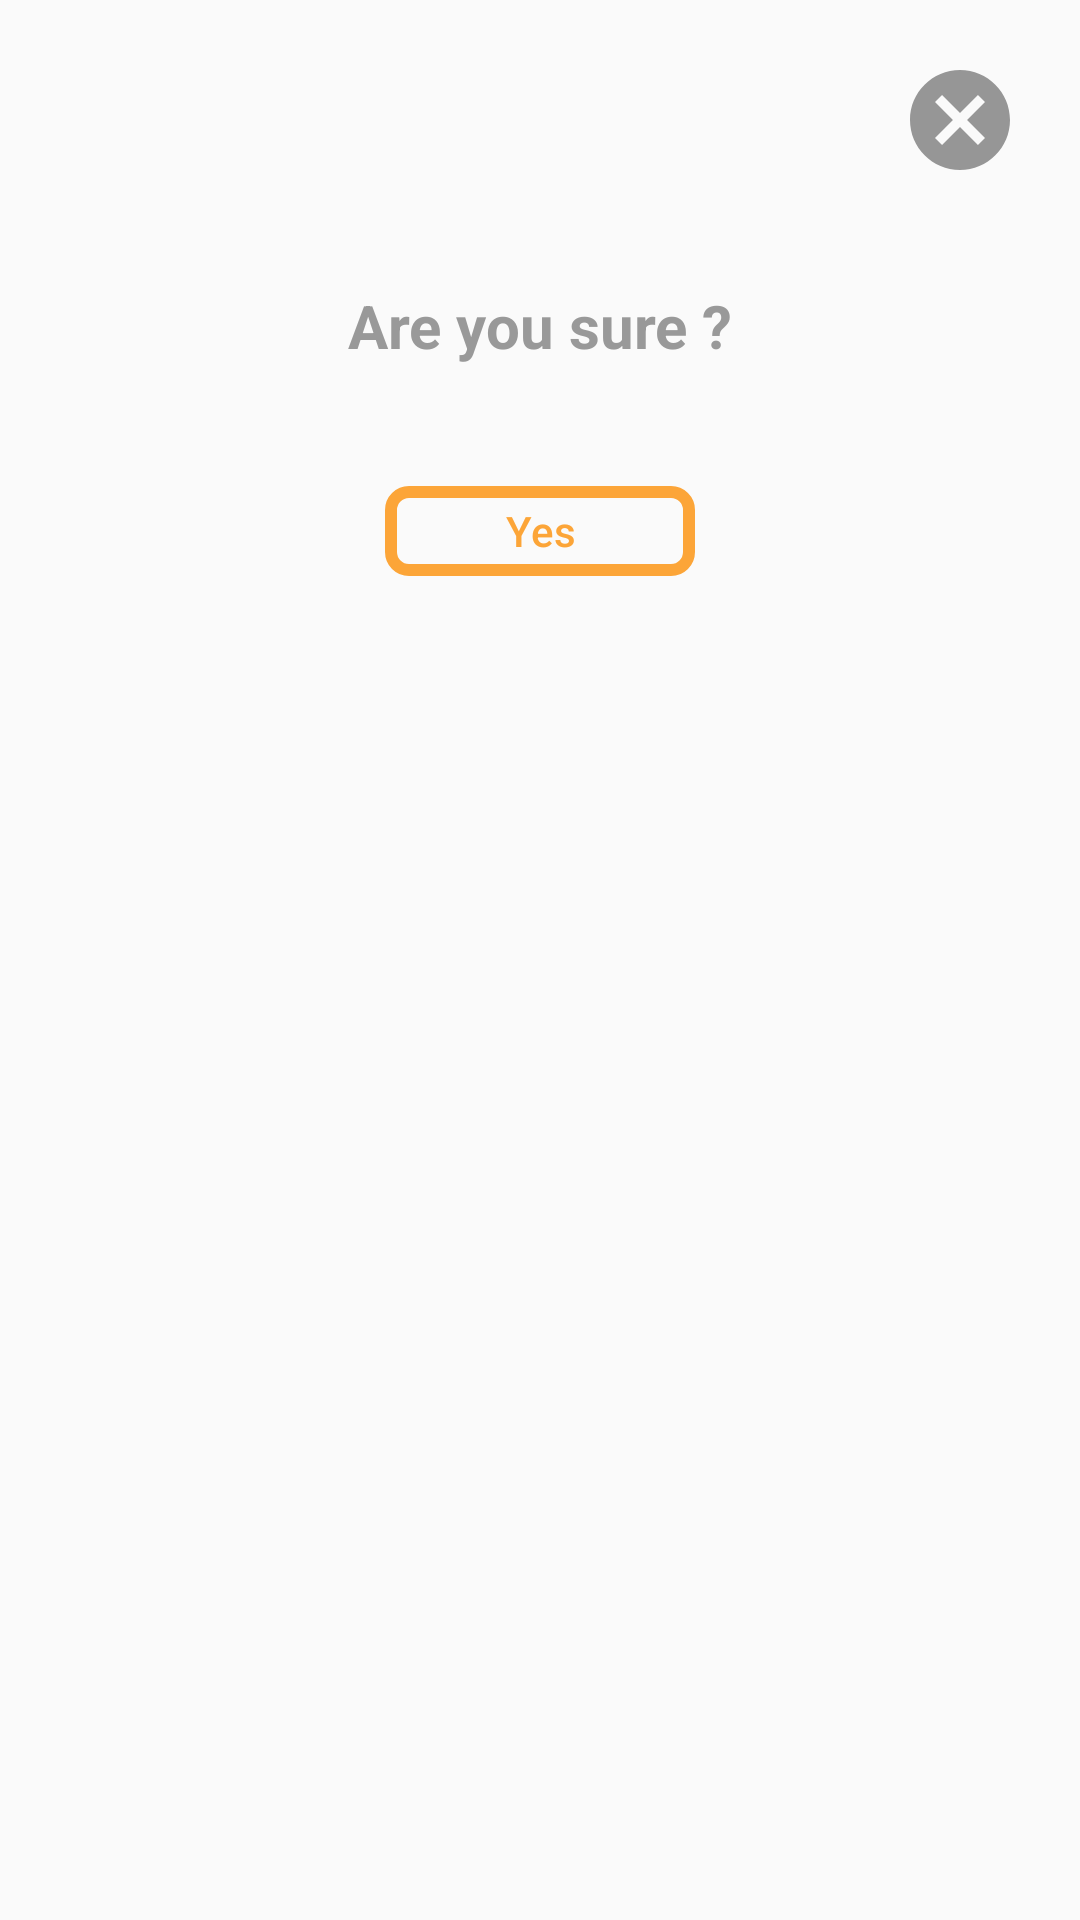

Icons on this 1080×1920 Android screen, each with its box as (x1=x1, y1=y1, x2=x2, y2=y2):
cancel: (x1=910, y1=70, x2=1010, y2=170)
